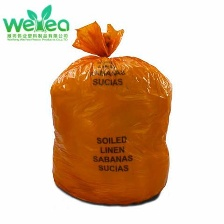plastic_bag: (47, 17, 183, 209)
